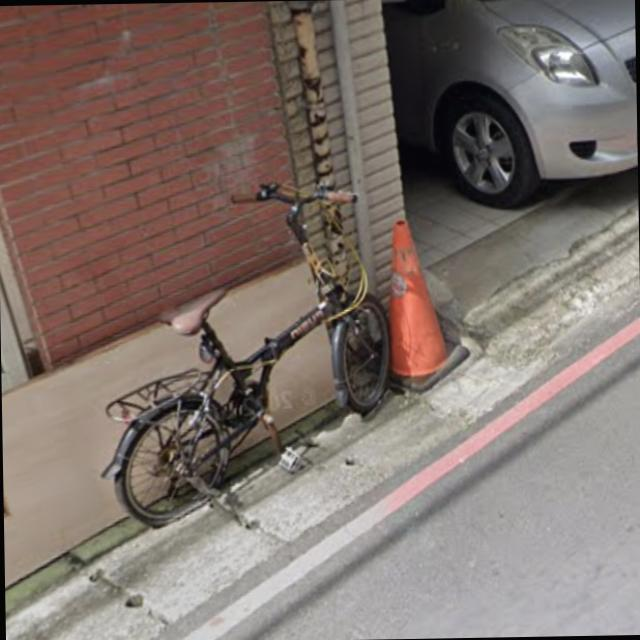cone: (379, 204, 463, 388)
